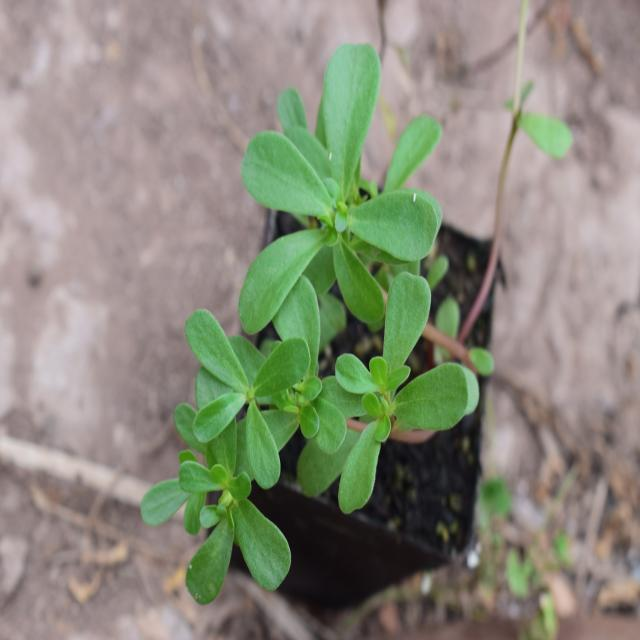purslane: (103, 54, 512, 598)
